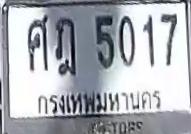0: (118, 15, 136, 67)
1: (142, 15, 154, 68)
5: (96, 16, 114, 68)
7: (160, 13, 177, 66)
A14: (55, 17, 76, 75)
A38: (26, 14, 48, 71)
BKK: (36, 89, 166, 114)
